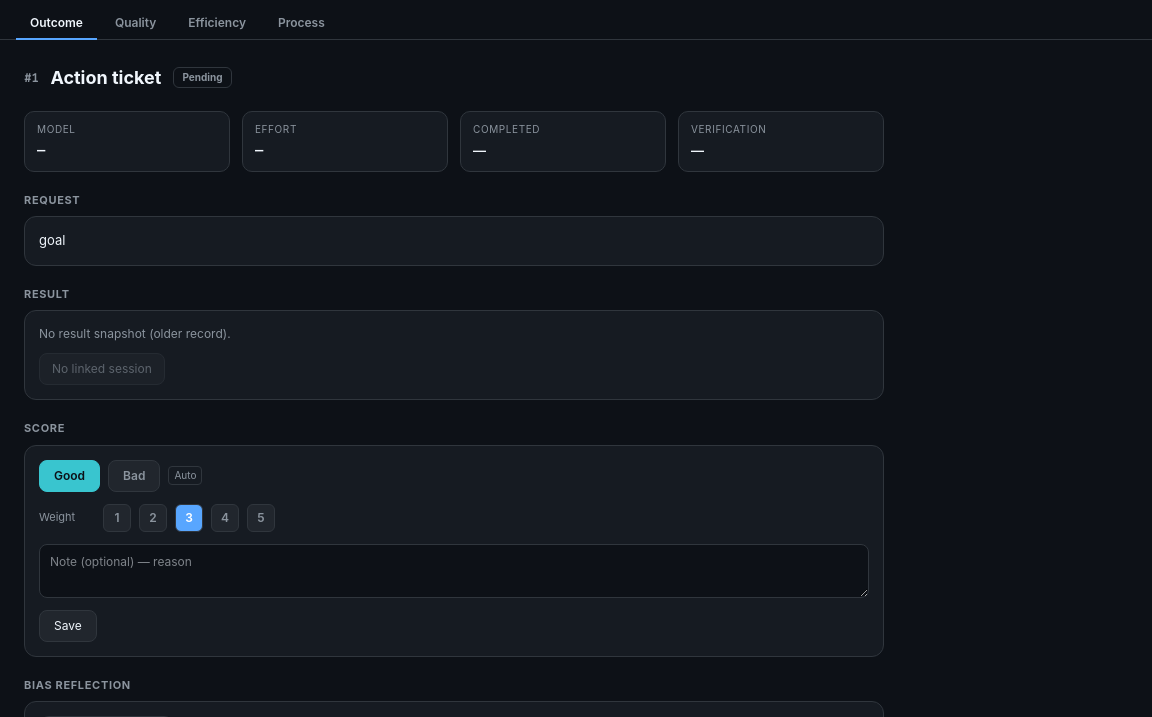
Scenario: WorkTab › renders authoritative label/reflection updates and refreshes the current guide
Expected: the text "Action ticket" is shown, [50,64,161,91]
Click the button "Bad".
click(134, 476)  # box [108,460,160,492]
(page scrolled)
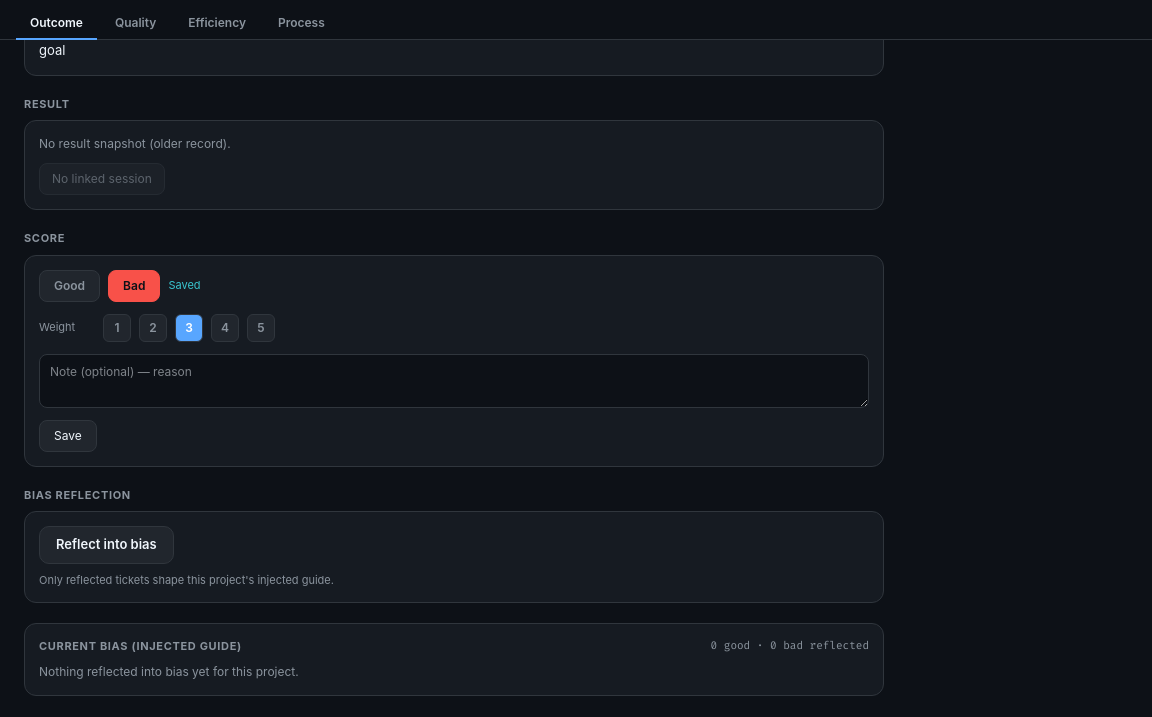
Click the button "Reflect into bias".
click(106, 545)  # box [39,526,174,564]
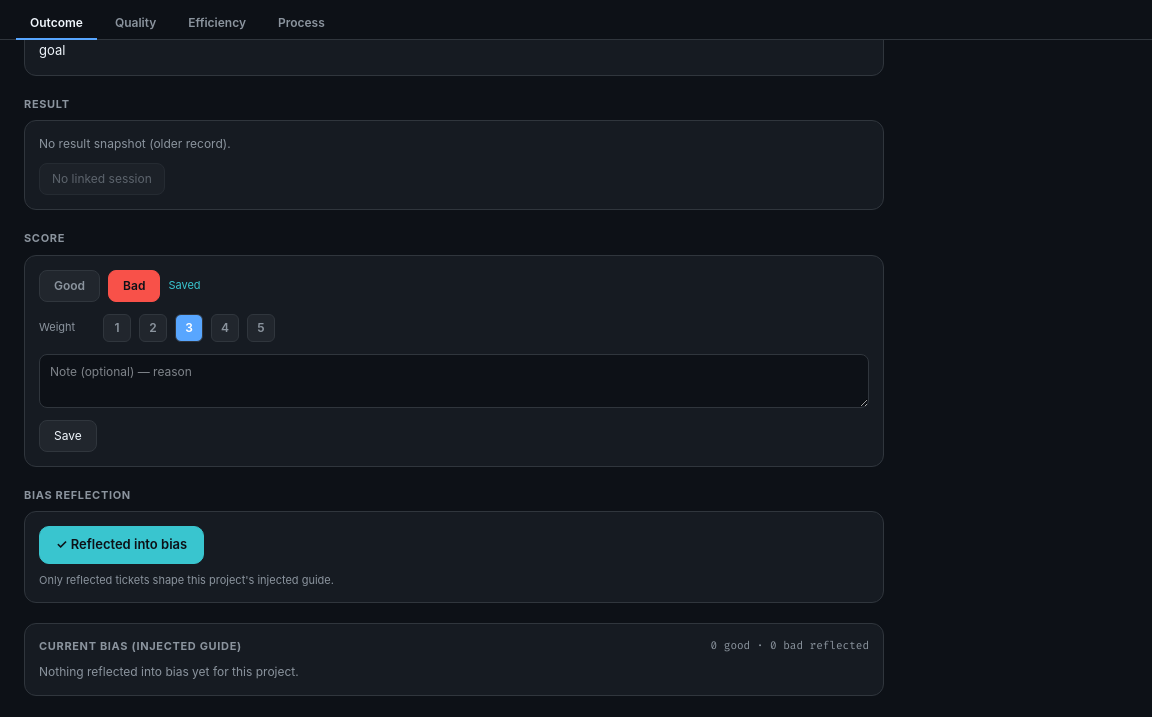
Now the button "✓ Reflected into bias" is shown, box [39,526,204,564]
